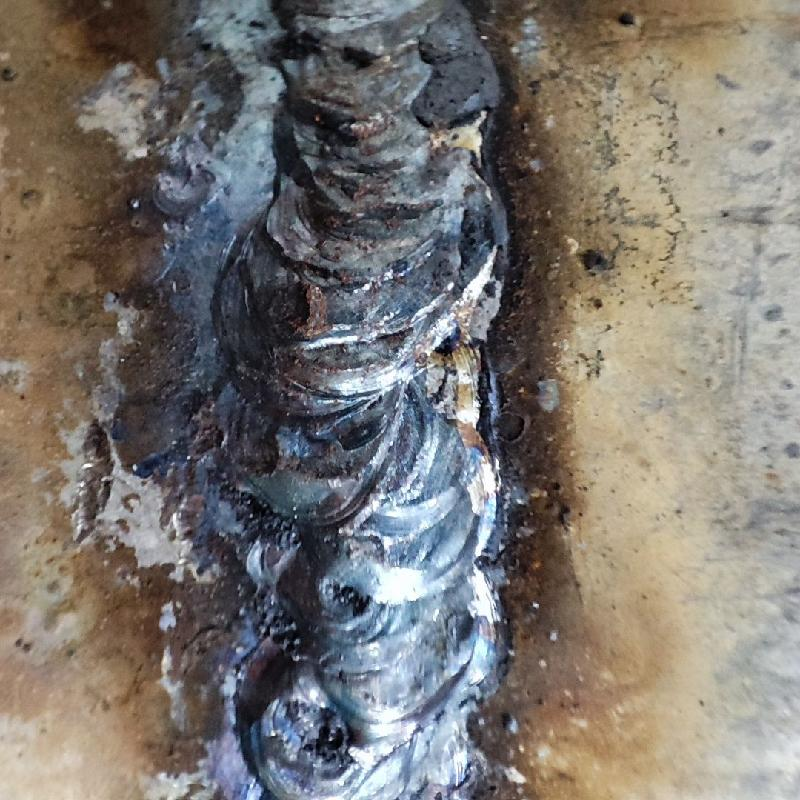Surface_pores: (288, 715, 355, 768), (333, 28, 387, 85)
